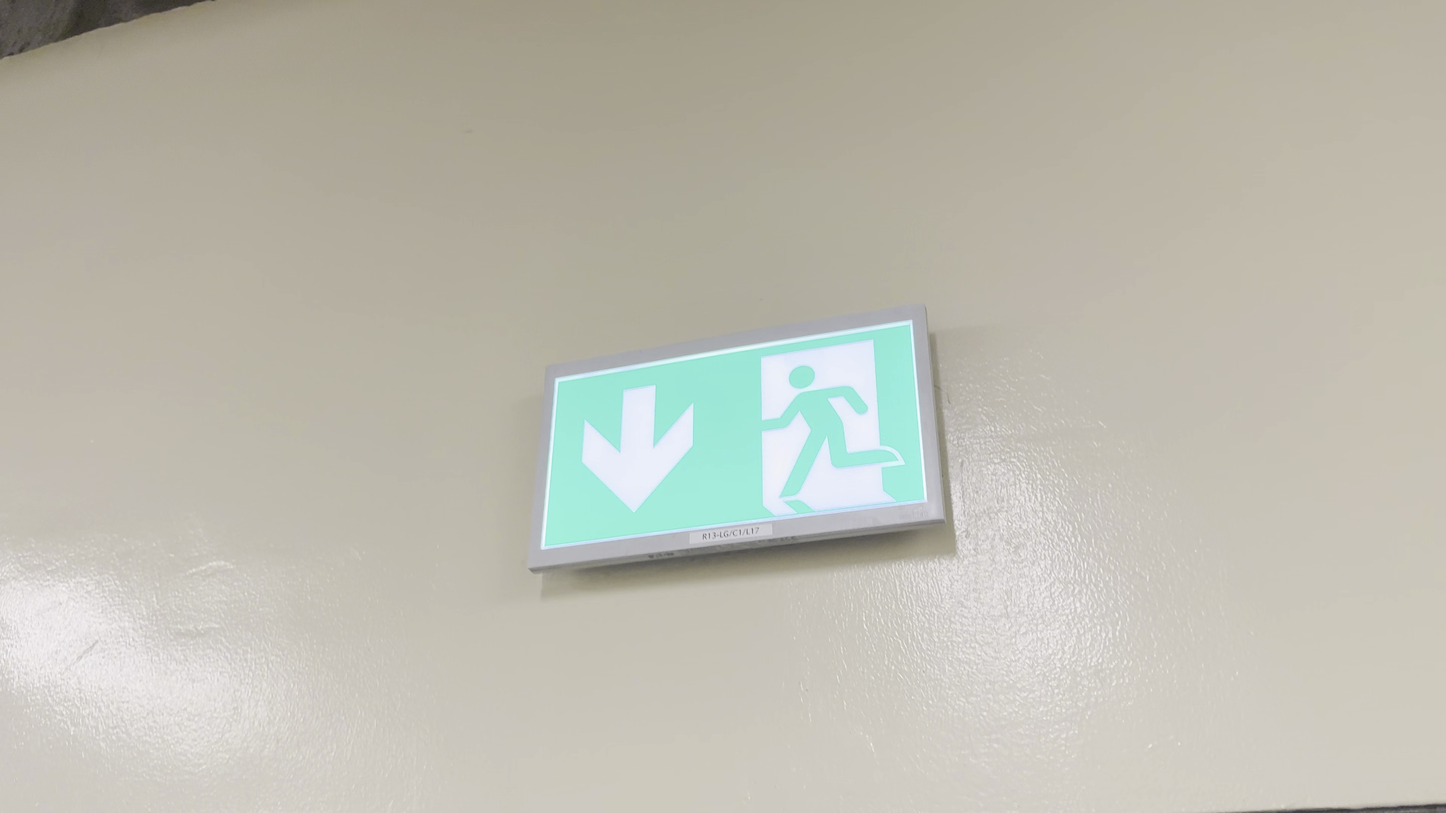safety_helmet: (534, 194, 1307, 402)
